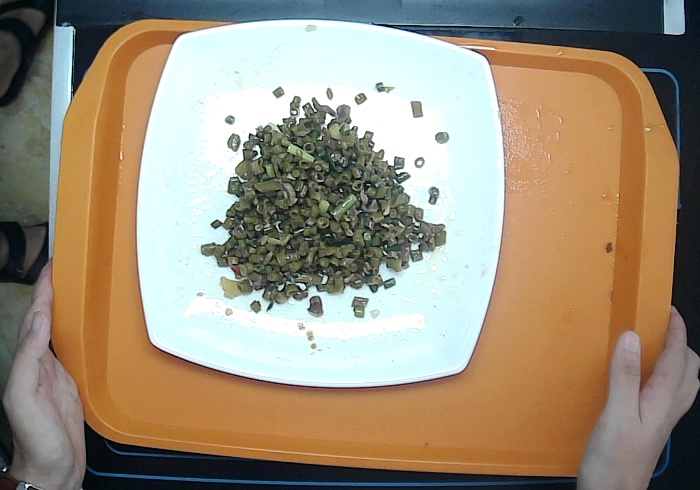ZNLD-Bai_Fang_Pan: (126, 13, 516, 400)
